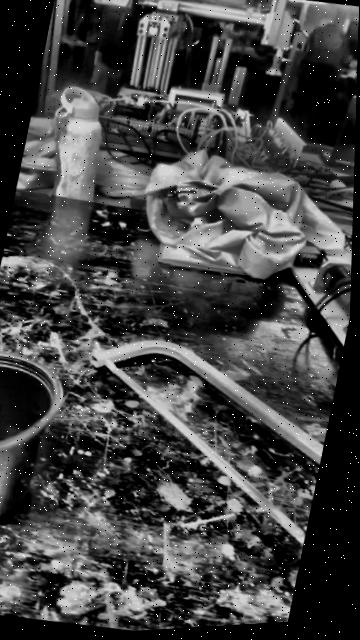pot: (0, 347, 65, 545)
